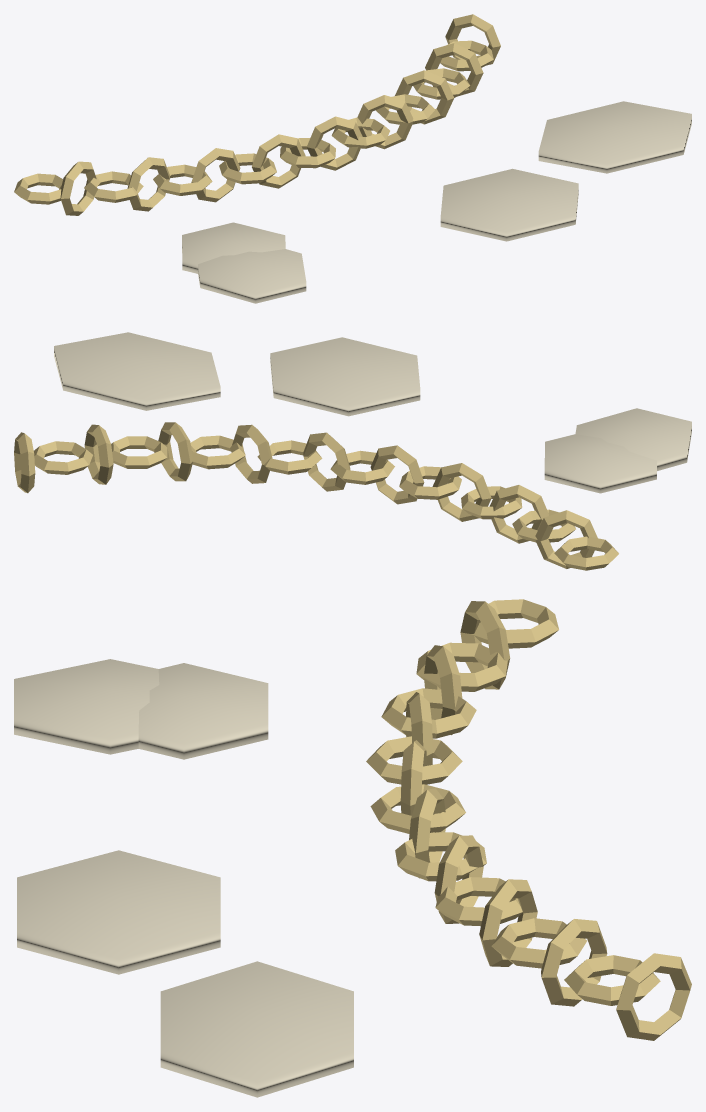
File: sunken-city-and-underwater-ruins-chain-run-990878da__36977.glb
3 views of the same model, one above another, from view 1: azimuth 30°, elevation 25°; view 2: azimuth 150°, elevation 25°; view 3: azimuth 270°, elevation 25° (orthographic). The views are drawn at different scales.
Visible parts, largest first — view 1: chain-run; view 2: chain-run; view 3: chain-run.
Part boxes in pixels (x1,y1,x2,y2): chain-run: [14, 14, 691, 303]; chain-run: [14, 332, 691, 570]; chain-run: [14, 599, 691, 1097].
Bounding box in the file's own units: 3.2 × 0.2799 × 1.96.
